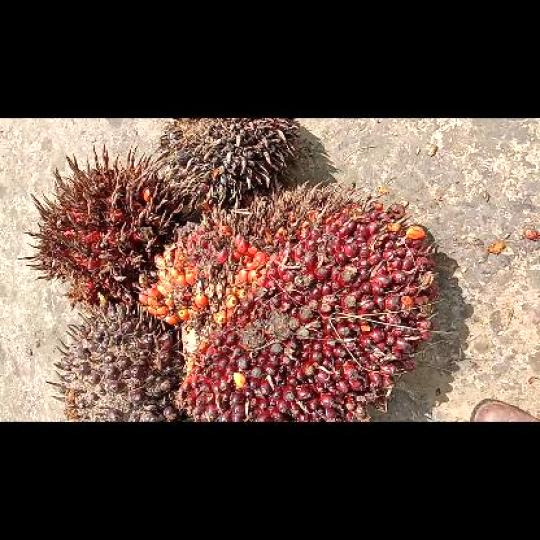kurang masak: (54, 306, 176, 421)
masak: (138, 180, 438, 420)
terlalu masak: (24, 146, 178, 307)
